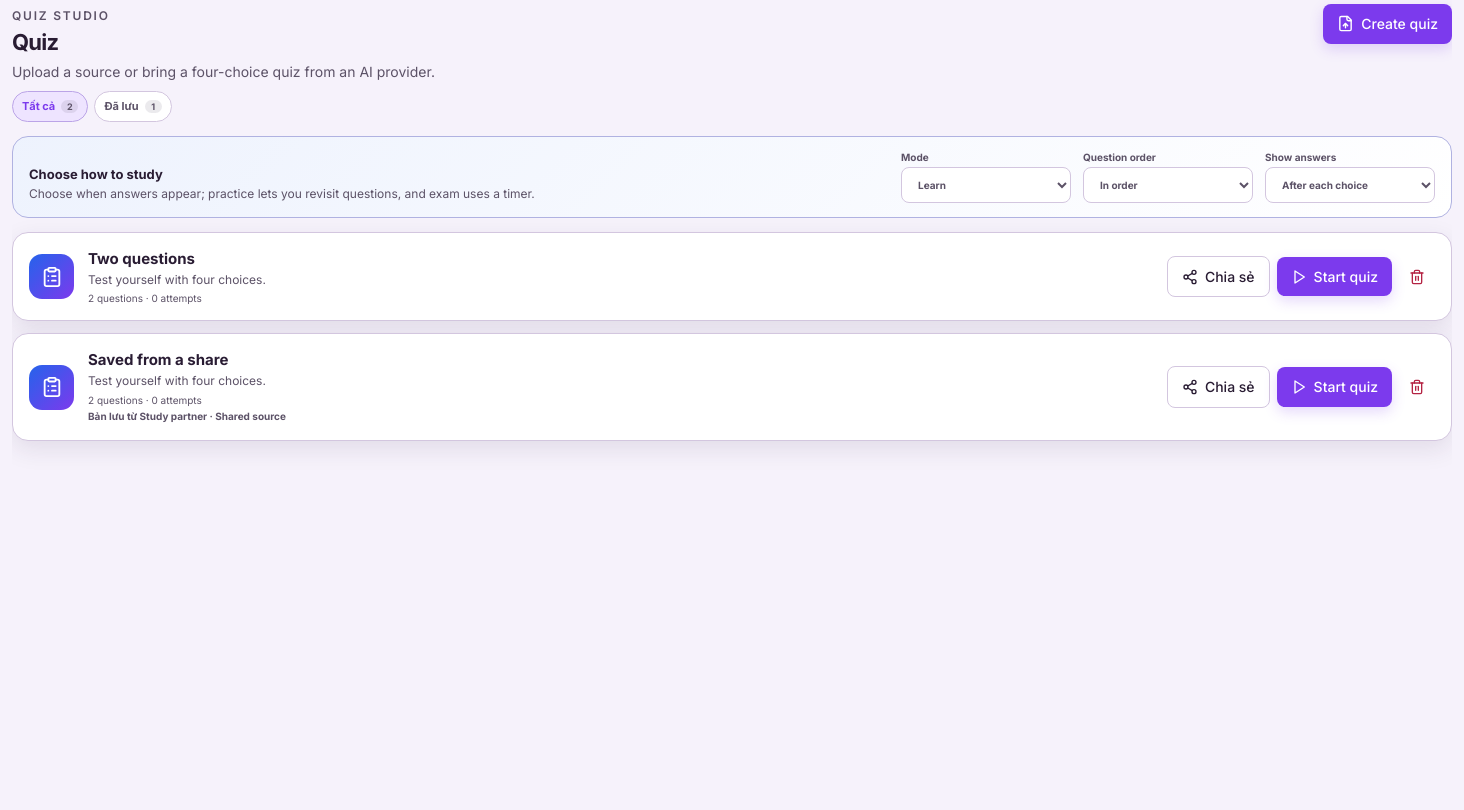
reveals the selected question immediately and locks its answer
The width and height of the screenshot is (1464, 810).
Click the button "Start quiz" in the row of "Two questions" at (1334, 277), box x1=1277 y1=257 x2=1392 y2=296
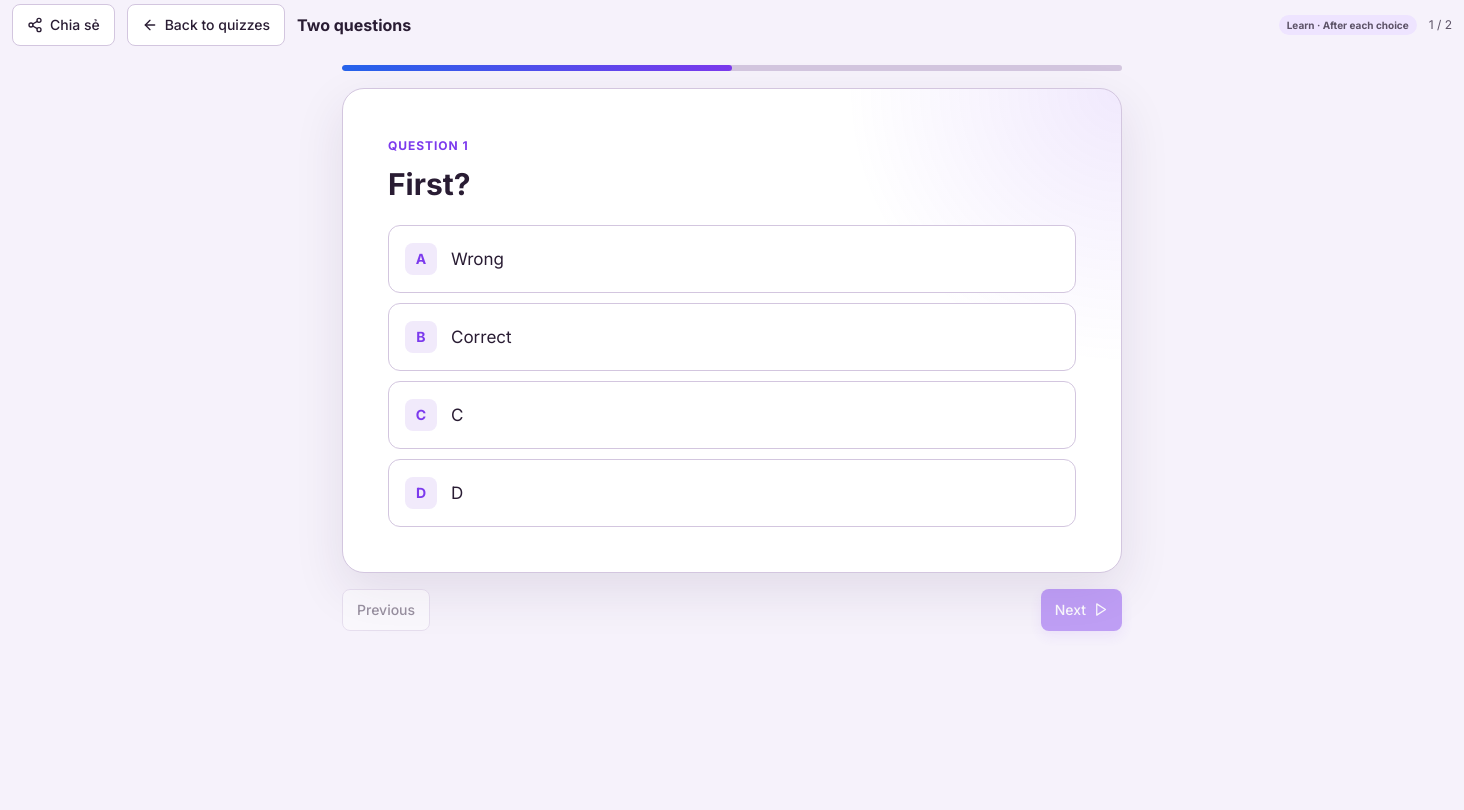
Click the button "A Wrong" at (421, 259), box x1=388 y1=225 x2=1076 y2=293
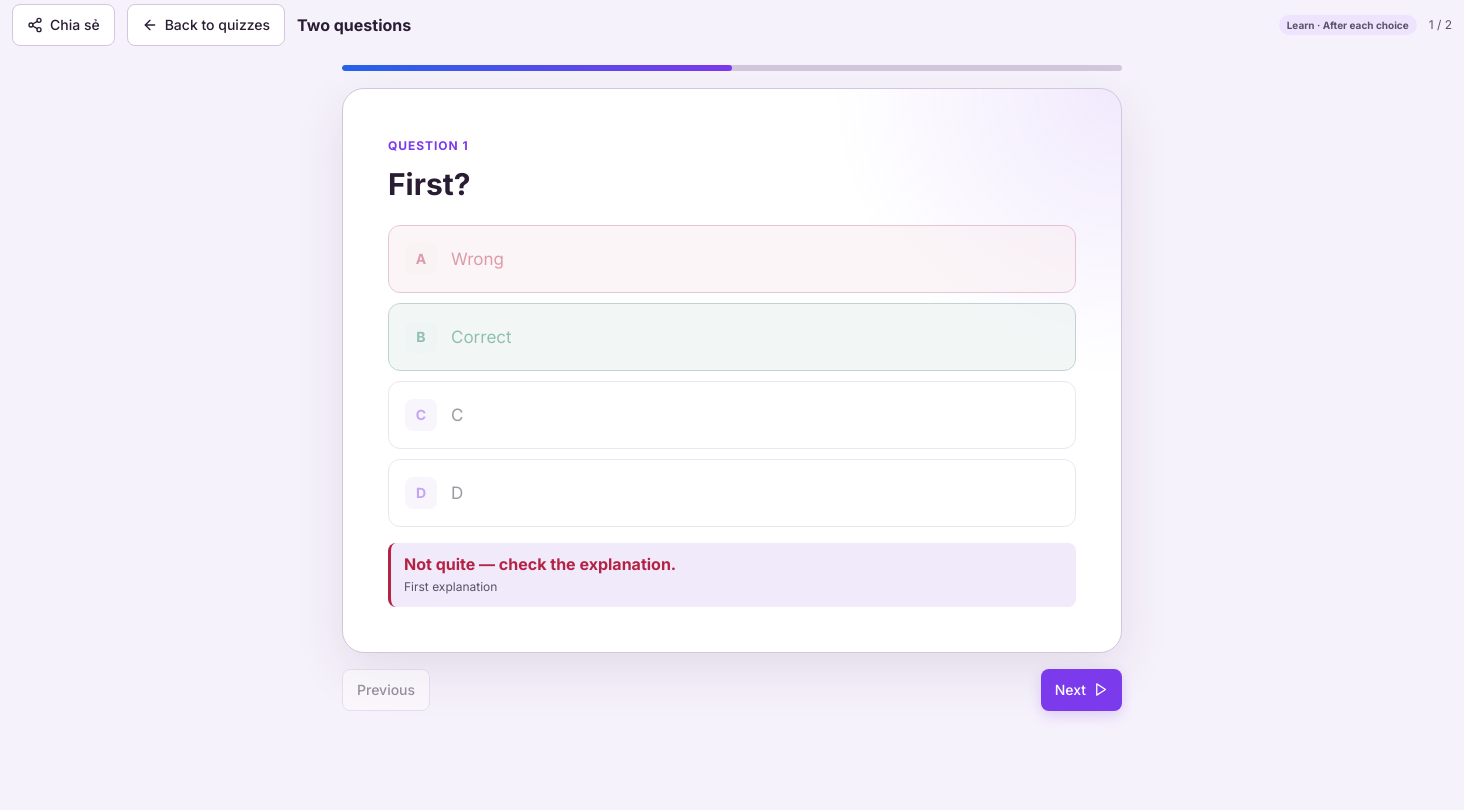
Now the button "B Correct" is shown, box x1=388 y1=303 x2=1076 y2=371
Now the element showing "Not quite — check the explanation. First explanation" is shown, box x1=388 y1=543 x2=1076 y2=607
Now the button "A Wrong" is disabled, box x1=388 y1=225 x2=1076 y2=293
